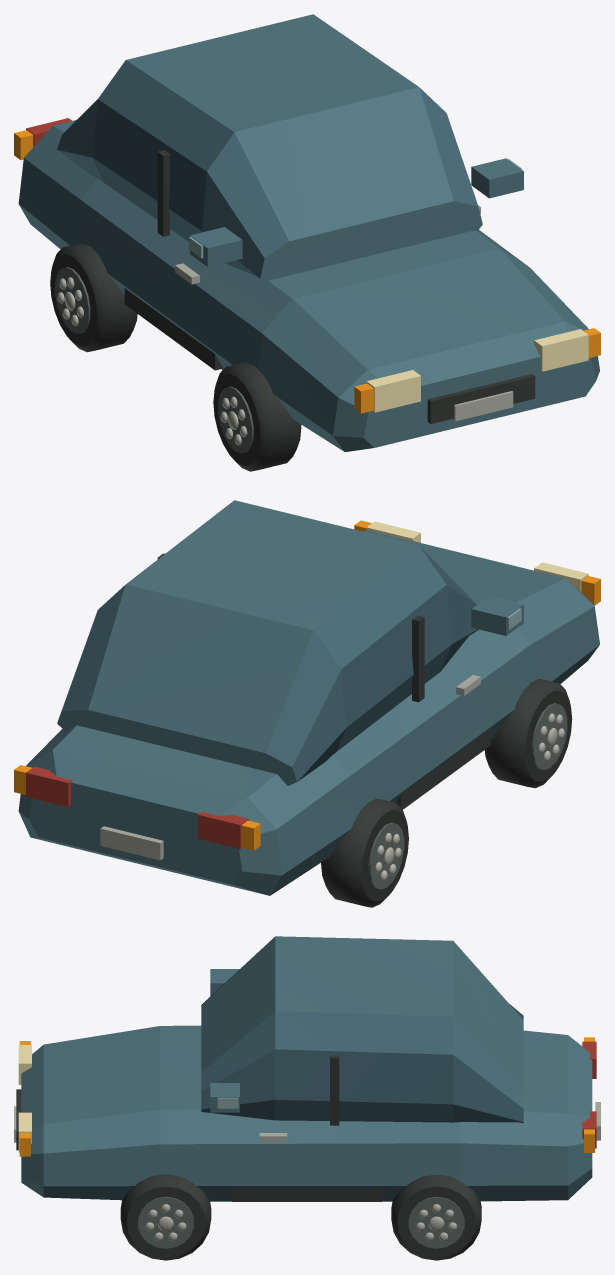
The model's file is crossover.glb.
3 views of the same model, one above another, from view 1: azimuth 30°, elevation 25°; view 2: azimuth 150°, elevation 25°; view 3: azimuth 270°, elevation 25° (orthographic). The views are drawn at different scales.
Parts seen in each view (by area): view 1: Crossover · Utility paint, Crossover · Car glass, Crossover · Tire, Crossover · Headlight, Crossover · Alloy, Crossover · Wheel dark, Crossover · Turn signal; view 2: Crossover · Utility paint, Crossover · Car glass, Crossover · Tire, Crossover · Alloy, Crossover · Brake, Crossover · Wheel dark, Crossover · Turn signal, Crossover · Headlight; view 3: Crossover · Utility paint, Crossover · Car glass, Crossover · Tire, Crossover · Wheel dark, Crossover · Alloy, Crossover · Headlight, Crossover · Turn signal, Crossover · Brake.
Part boxes in pixels (x1,y1,x2,y2): Crossover · Utility paint: (18,14,599,451); Crossover · Car glass: (57,60,478,278); Crossover · Tire: (50,150,535,471); Crossover · Headlight: (366,329,588,412); Crossover · Alloy: (57,205,513,445); Crossover · Wheel dark: (55,267,253,453); Crossover · Turn signal: (14,130,600,413); Crossover · Utility paint: (18,500,599,895); Crossover · Car glass: (59,545,478,781); Crossover · Tire: (157,553,572,907); Crossover · Alloy: (100,675,564,881); Crossover · Brake: (26,766,248,848); Crossover · Wheel dark: (368,703,567,889); Crossover · Turn signal: (14,520,600,850); Crossover · Headlight: (366,521,588,591); Crossover · Utility paint: (21,936,592,1201); Crossover · Car glass: (201,940,523,1123); Crossover · Tire: (16,1055,481,1260); Crossover · Wheel dark: (138,1196,464,1248); Crossover · Alloy: (14,1102,600,1241); Crossover · Headlight: (18,1045,31,1152); Crossover · Turn signal: (19,1037,594,1156); Crossover · Brake: (582,1041,596,1148).
Bounding box in the file's own units: 1.68 × 1.35 × 3.17.
